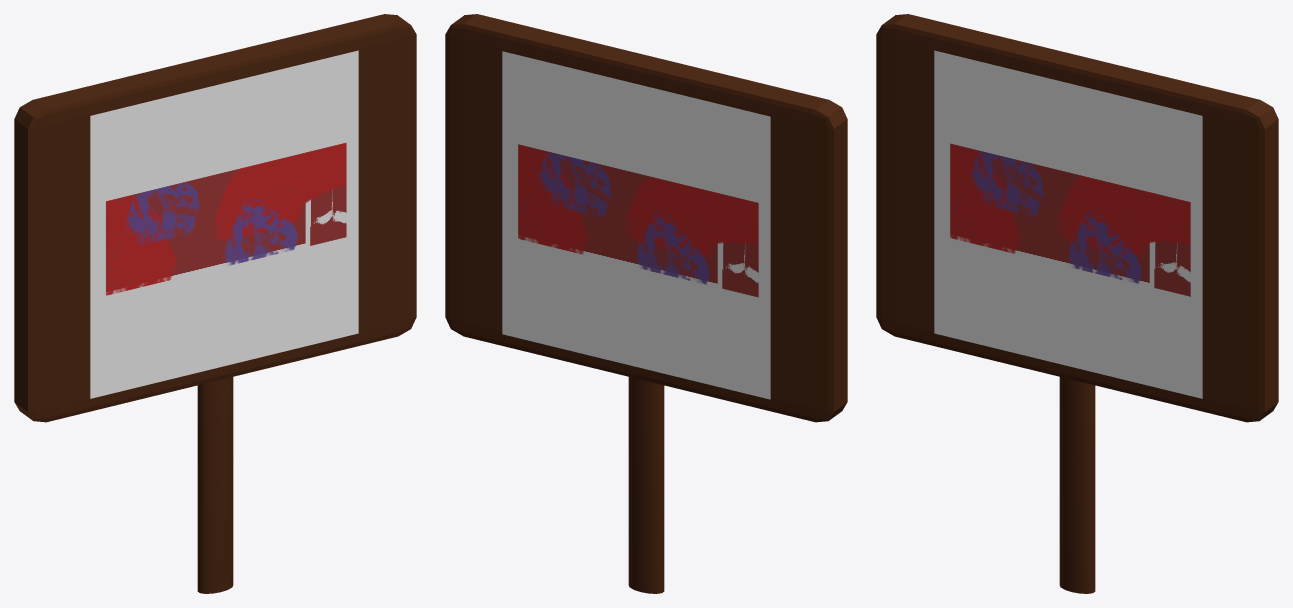
File: board03.fbx
The picture shows the model from 3 angles, left to right: view 1: azimuth 30°, elevation 25°; view 2: azimuth 150°, elevation 25°; view 3: azimuth 330°, elevation 25°; orthographic projection.
Visible parts, largest first — view 1: Cylinder.018, Cylinder.017; view 2: Cylinder.019, Cylinder.017; view 3: Cylinder.018, Cylinder.017.
Boxes of the visible parts, x1,y1,x2,y2 form: Cylinder.018: (90, 50, 358, 398); Cylinder.017: (14, 14, 416, 593); Cylinder.019: (502, 51, 770, 399); Cylinder.017: (445, 14, 847, 593); Cylinder.018: (934, 50, 1202, 398); Cylinder.017: (876, 14, 1278, 593).
Size of the model in its own units: 58.32 by 75.5 by 4.91.
